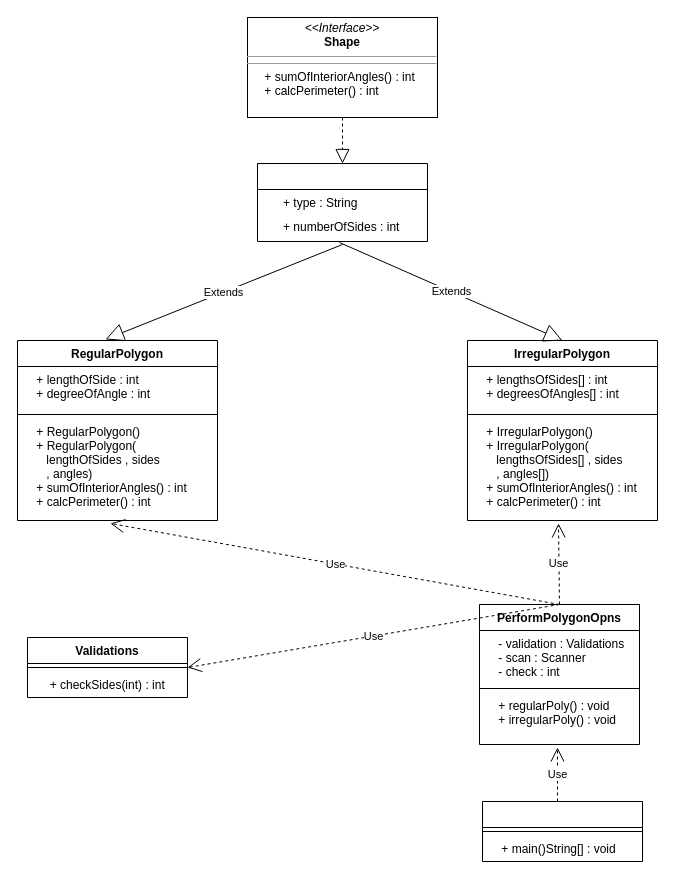
This 675x882 diagram has some shape labels left out. Each missing label, with the box of its shape:
Polygon: (256, 162, 428, 242)
PolygonOperations: (482, 800, 642, 862)
